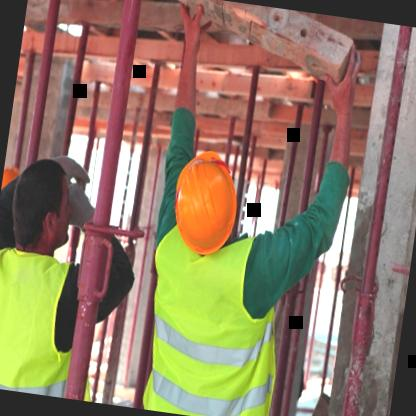head: (0, 154, 83, 264)
helmet: (165, 150, 246, 256)
